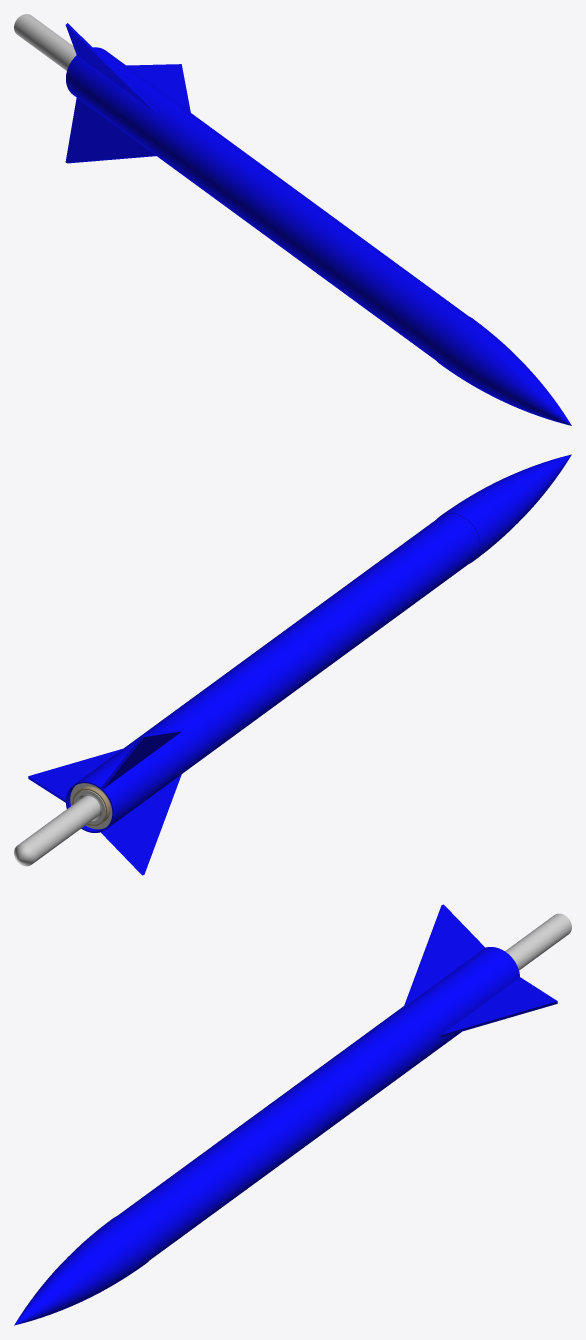
File: PK-5-Nuke-Pro-Max OBJ.obj
3 views of the same model, one above another, from view 1: azimuth 30°, elevation 25°; view 2: azimuth 150°, elevation 25°; view 3: azimuth 330°, elevation 25° (orthographic).
Visible parts, largest first — view 1: 5_Body tube, 2_Body tube, 1_Nose cone, 9_FS-PK5, 10_Shock cord mount; view 2: 5_Body tube, 2_Body tube, 9_FS-PK5, 1_Nose cone, 10_Shock cord mount; view 3: 5_Body tube, 2_Body tube, 1_Nose cone, 9_FS-PK5, 10_Shock cord mount.
Boxes of the visible parts, <box> form: 5_Body tube: <box>66,47,348,272</box>; 2_Body tube: <box>310,226,467,360</box>; 1_Nose cone: <box>431,315,571,425</box>; 9_FS-PK5: <box>65,23,190,163</box>; 10_Shock cord mount: <box>14,14,76,70</box>; 5_Body tube: <box>66,603,357,832</box>; 2_Body tube: <box>320,513,479,648</box>; 9_FS-PK5: <box>28,729,181,875</box>; 1_Nose cone: <box>437,454,571,563</box>; 10_Shock cord mount: <box>14,796,100,866</box>; 5_Body tube: <box>238,947,519,1171</box>; 2_Body tube: <box>118,1125,275,1259</box>; 1_Nose cone: <box>14,1214,154,1325</box>; 9_FS-PK5: <box>404,904,557,1037</box>; 10_Shock cord mount: <box>505,913,571,970</box>.
Size of the model in its own units: 2.79 by 3.22 by 22.99.
